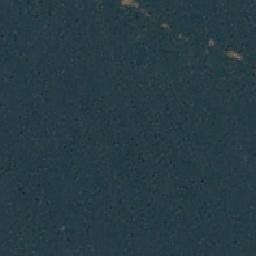debris: (159, 22, 181, 39), (118, 1, 145, 11), (227, 50, 241, 60), (207, 38, 215, 47)
